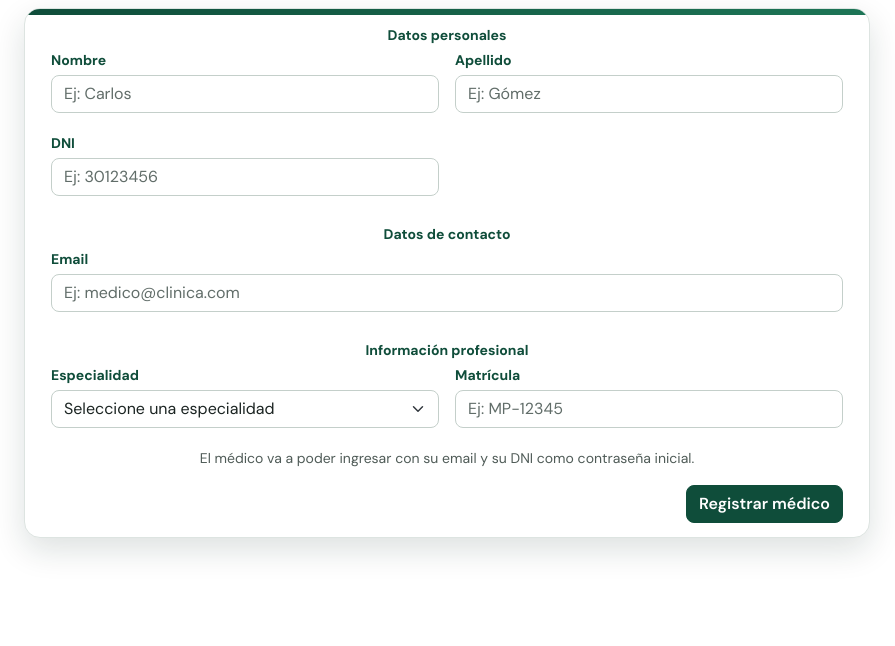
Test: RegistroMedicoForm › si el back responde 409 (DNI o matrícula repetida) muestra el mensaje y no navega
The width and height of the screenshot is (895, 646).
Type "Carlos" into the field labelled "Nombre".
click(245, 94); type("Carlos")  # box [51,75,439,113]
Type "Gómez" into the field labelled "Apellido".
click(649, 94); type("Gómez")  # box [455,75,843,113]
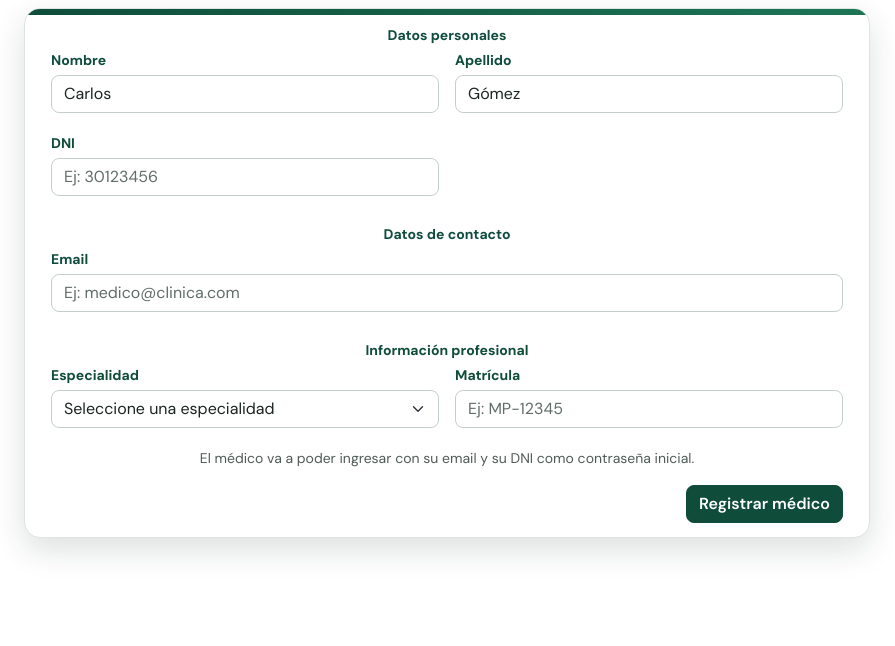
Type "30123456" into the field labelled "DNI".
click(245, 177); type("30123456")  # box [51,158,439,196]
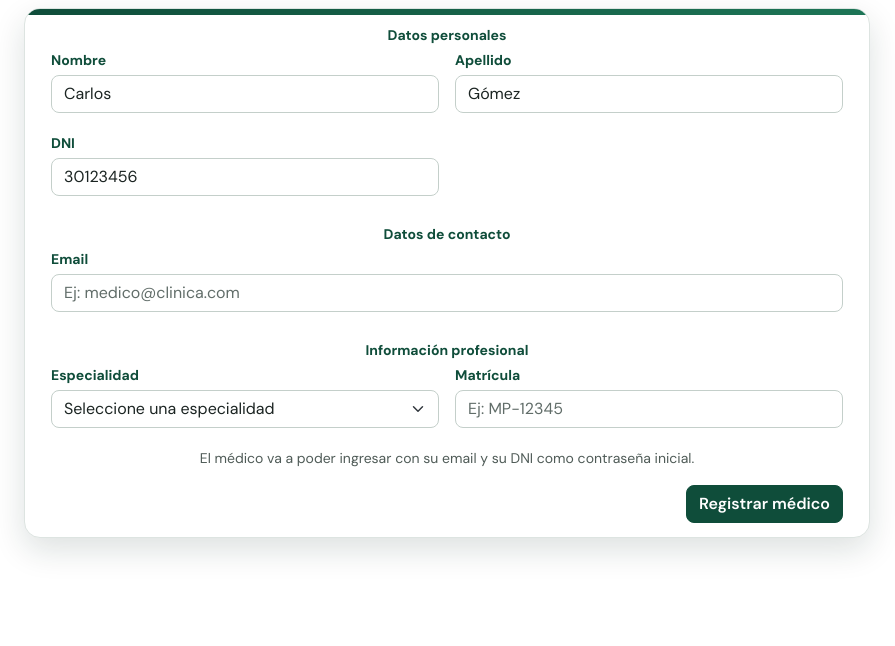
Type "medico@clinica.com" into the field labelled "Email".
click(447, 293); type("medico@clinica.com")  # box [51,274,843,312]
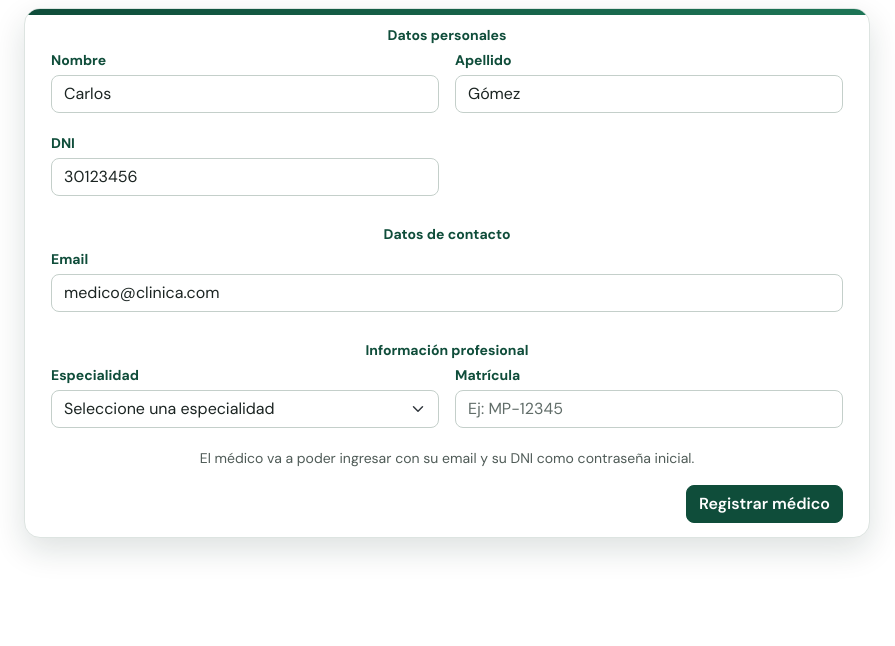
Select "Cardiología" in the dropdown labelled "Especialidad" at (245, 409), box [51,390,439,428]
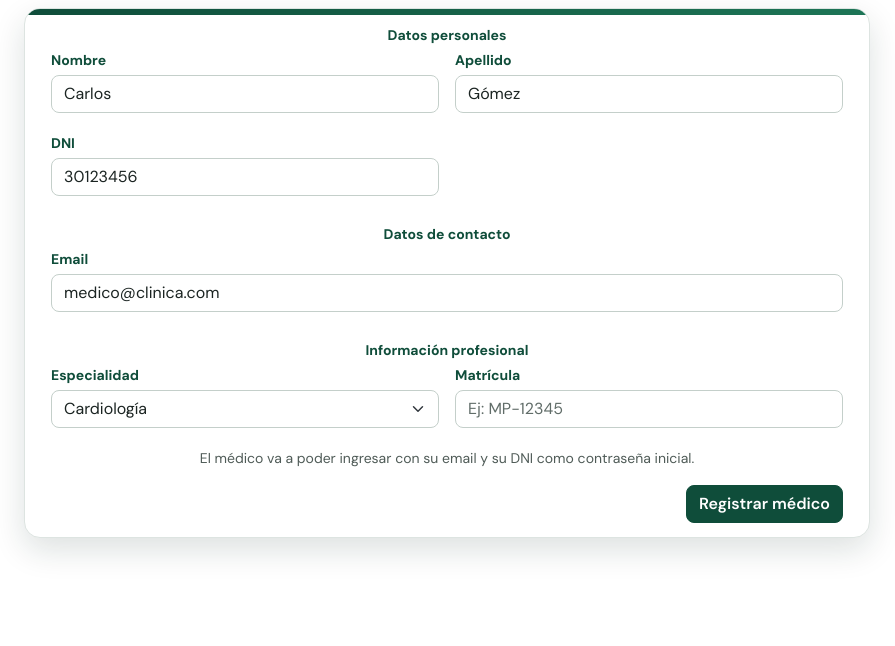
Type "mp-12345" into the field labelled "Matrícula".
click(649, 409); type("mp-12345")  # box [455,390,843,428]
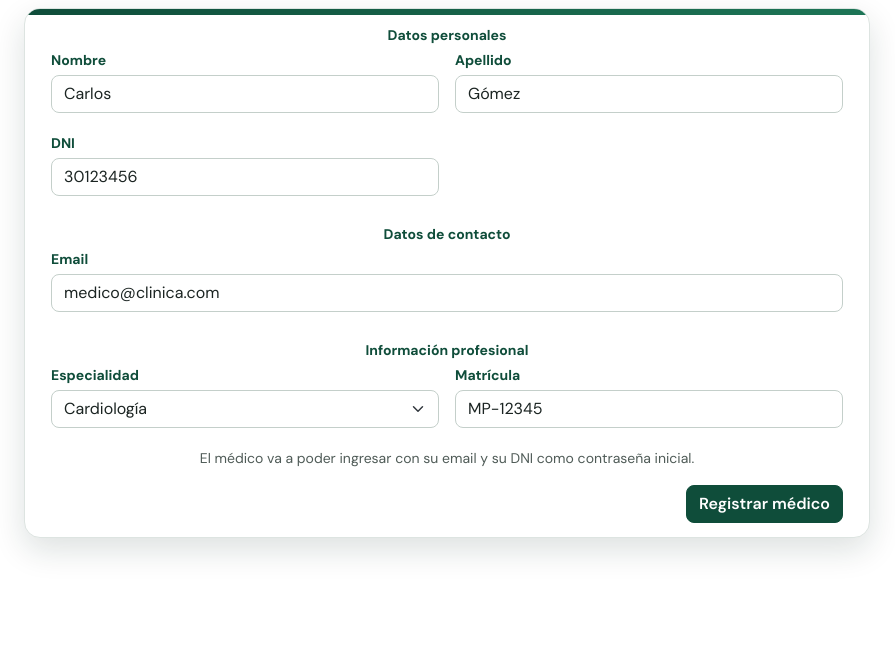
Click the button "Registrar médico".
click(764, 504)  # box [686,485,843,523]
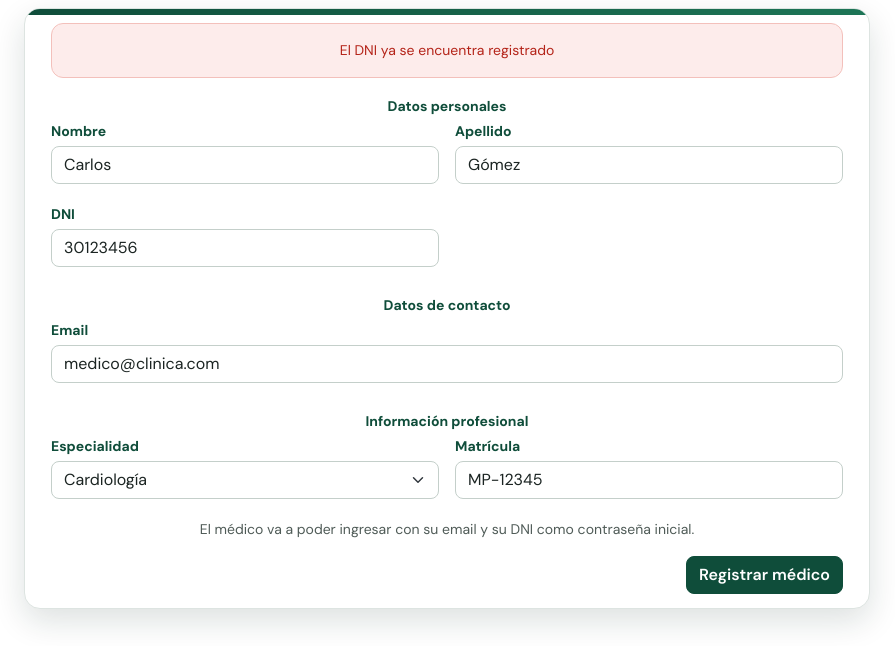
Expected: the message reads "El DNI ya se encuentra registrado", [340,41,554,59]
